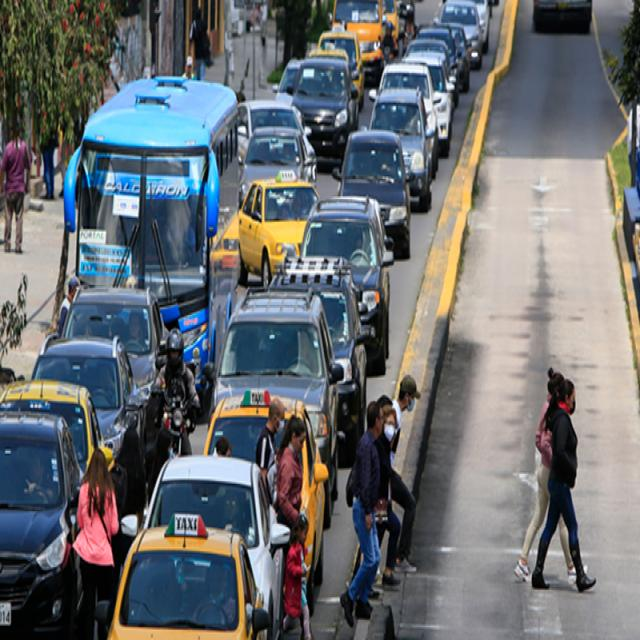BUS: (68, 89, 240, 361)
